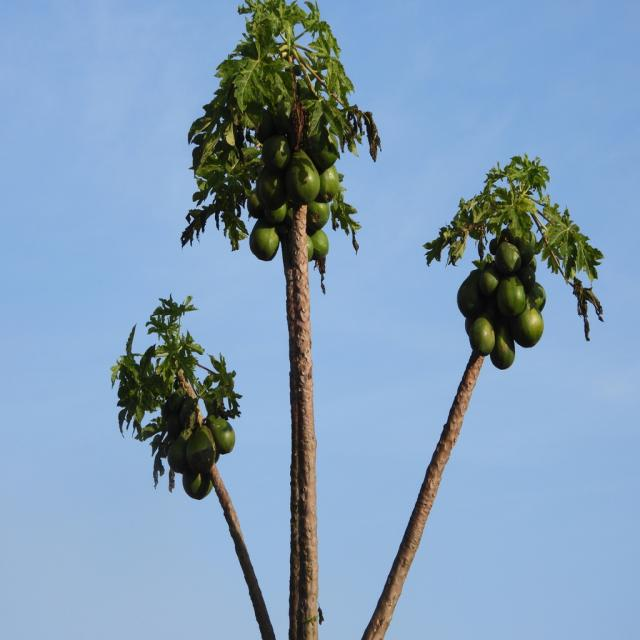Papaya-Tree: (379, 119, 599, 640), (182, 10, 358, 628), (105, 269, 261, 613)
